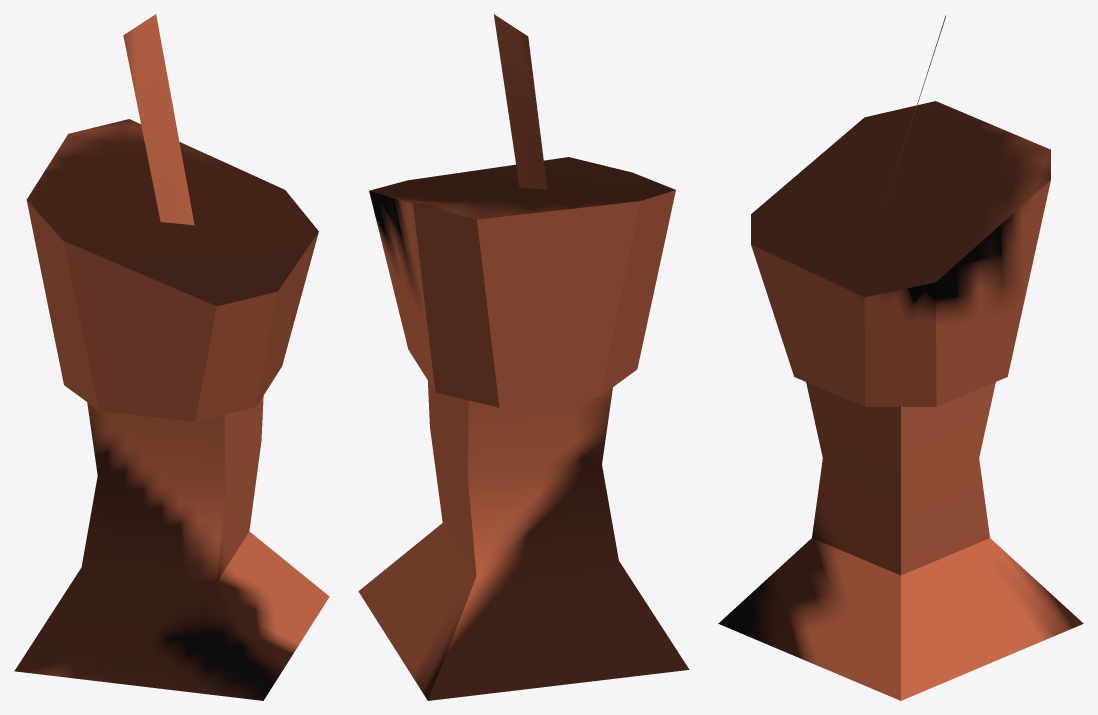
File: CandleBlender.fbx
The picture shows the model from 3 angles, left to right: view 1: azimuth 30°, elevation 25°; view 2: azimuth 150°, elevation 25°; view 3: azimuth 270°, elevation 25°; orthographic projection. The views are drawn at different scales.
Visible parts, largest first — view 1: polySurface54, polySurface47, polySurface52; view 2: polySurface47, polySurface54, polySurface52; view 3: polySurface54, polySurface47.
Boxes of the visible parts, <box> form: polySurface54: <box>26,119,318,421</box>; polySurface47: <box>14,396,329,700</box>; polySurface52: <box>123,14,194,225</box>; polySurface47: <box>358,381,689,700</box>; polySurface54: <box>369,157,675,407</box>; polySurface52: <box>493,14,547,189</box>; polySurface54: <box>751,101,1050,406</box>; polySurface47: <box>718,382,1083,700</box>.
Bounding box in the file's own units: 0.3469 × 0.6339 × 0.3445.
